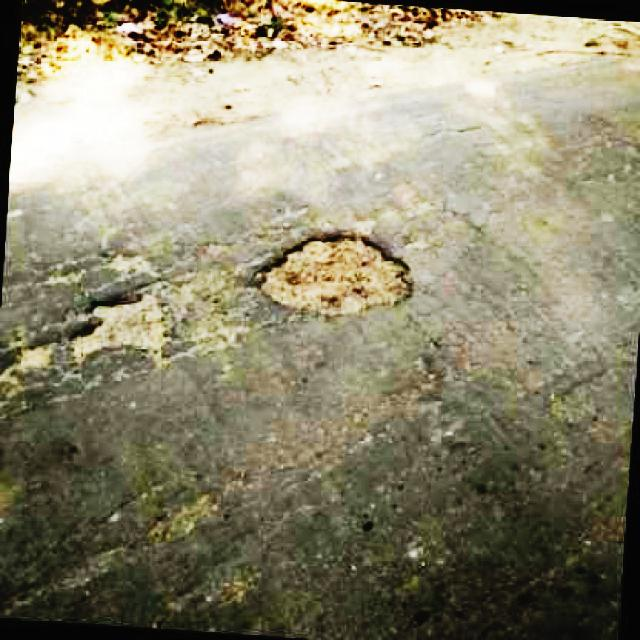pothole: (12, 280, 178, 388), (248, 226, 415, 319)
